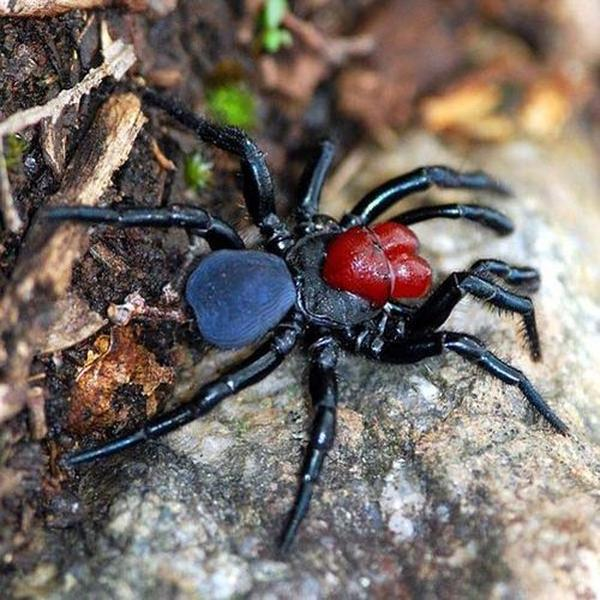Red Headed Mouse Spider: (46, 89, 567, 536)
